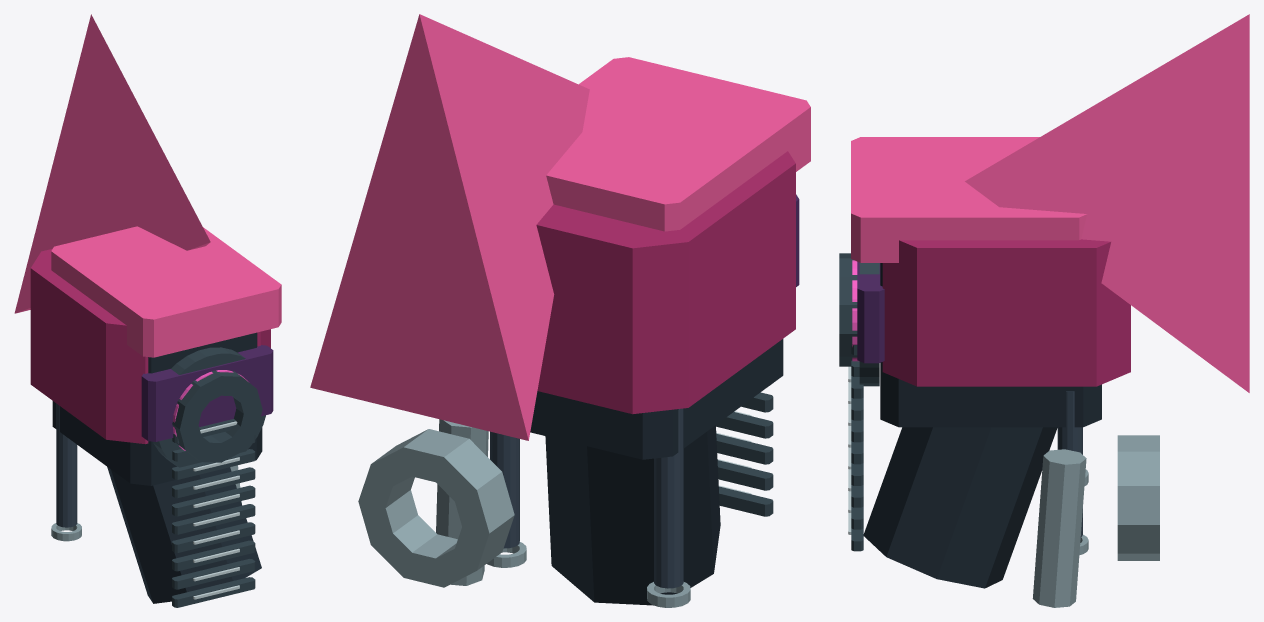
File: enemy_striker_4k_upper_arm_r.obj
3 views of the same model, side by side, from view 1: azimuth 30°, elevation 25°; view 2: azimuth 150°, elevation 25°; view 3: azimuth 270°, elevation 25° (orthographic). The views are drawn at different scales.
Size of the model in its own units: 0.535 by 1.21 by 0.7775.
